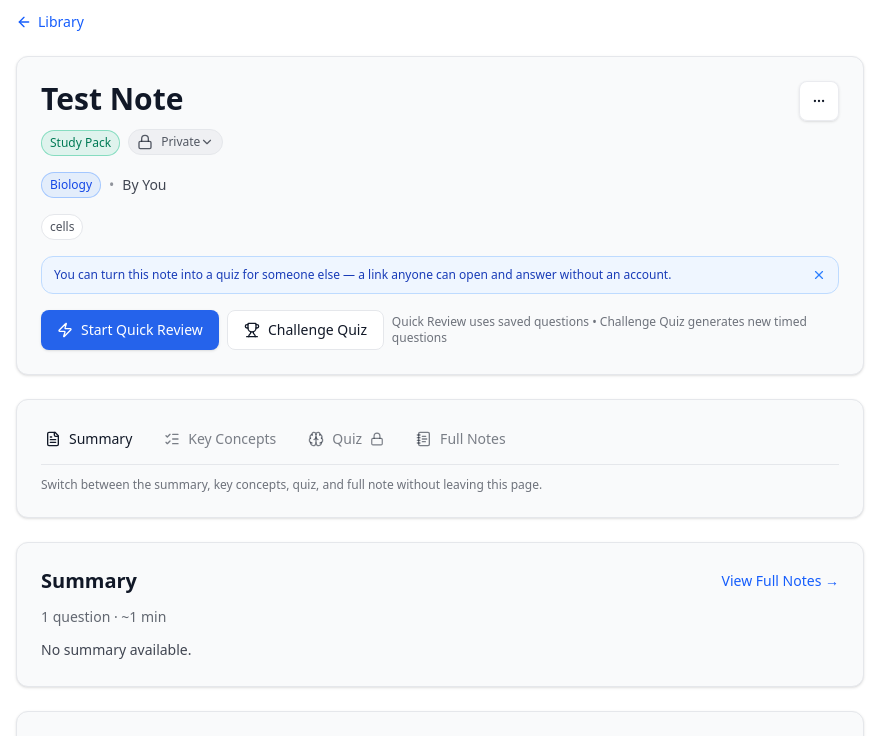
Test case: PrivateNoteDetailPageClient › keeps a non-teacher route to quiz creation, in the note actions menu not the practice row
The width and height of the screenshot is (881, 736).
Click the button named "Open note actions" at (819, 101), box [799,81,839,121]
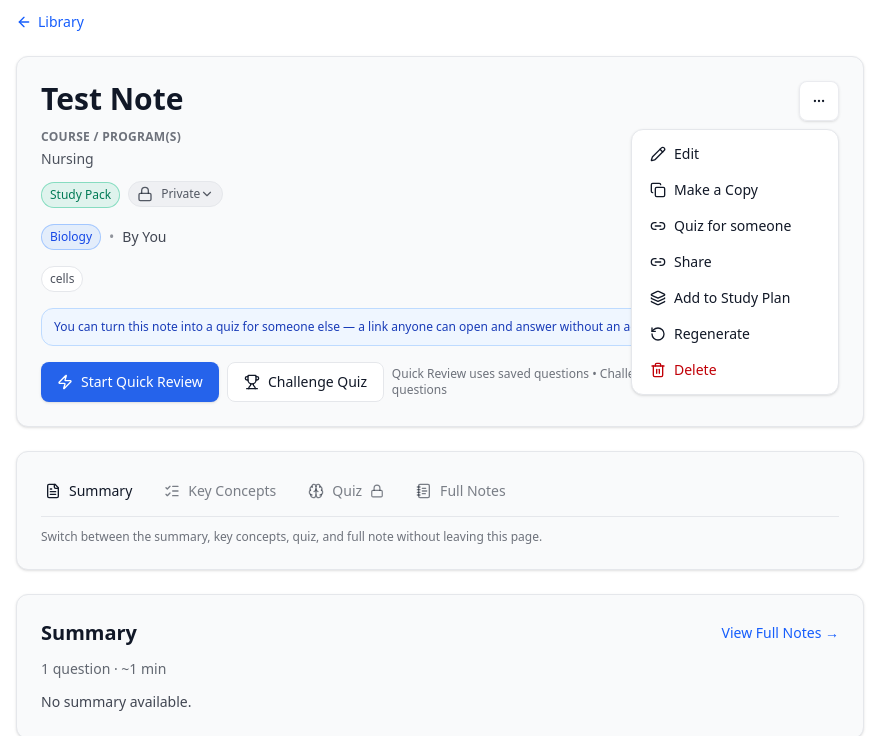
Expected: the button "Start Quick Review" is shown, [41,362,219,402]
Expected: the menu item "Quiz for someone" is shown, [638,208,832,244]
